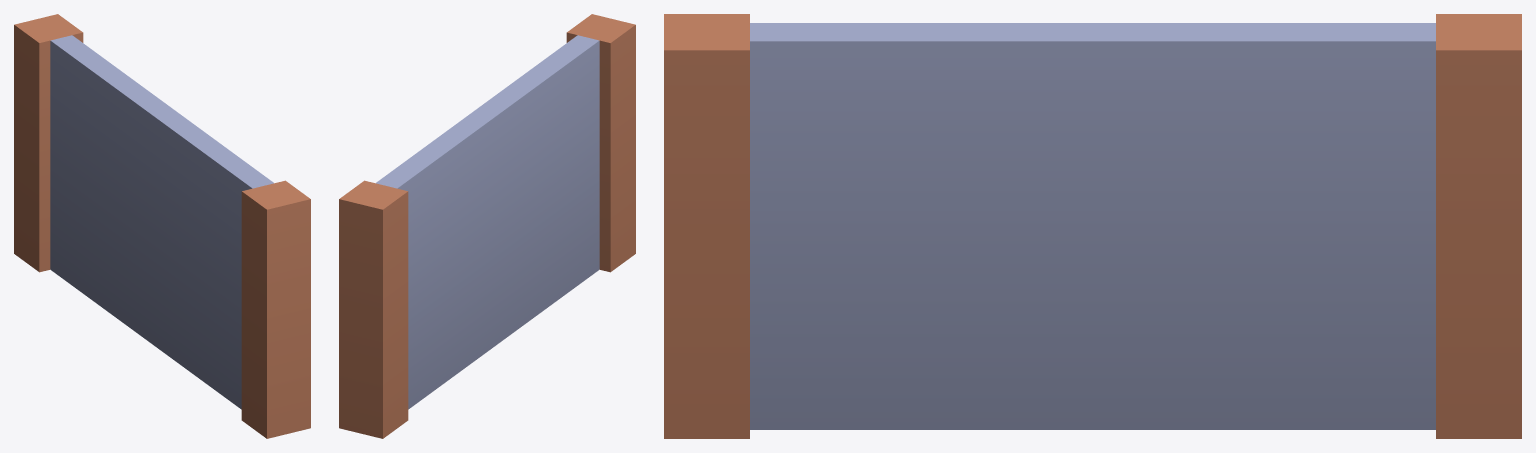
File: wall-half.glb
3 renders of one model, left to right at view 1: azimuth 30°, elevation 25°; view 2: azimuth 150°, elevation 25°; view 3: azimuth 270°, elevation 25°, orthographic. The views are drawn at different scales.
Visible parts, largest first — view 1: wall-half; view 2: wall-half; view 3: wall-half.
Boxes of the visible parts, x1=… form: wall-half: x1=14, y1=14, x2=310, y2=438; wall-half: x1=339, y1=14, x2=635, y2=438; wall-half: x1=664, y1=14, x2=1521, y2=438.
Bounding box in the file's own units: 0.1 × 0.5 × 1.
1 material, 1 textured.
